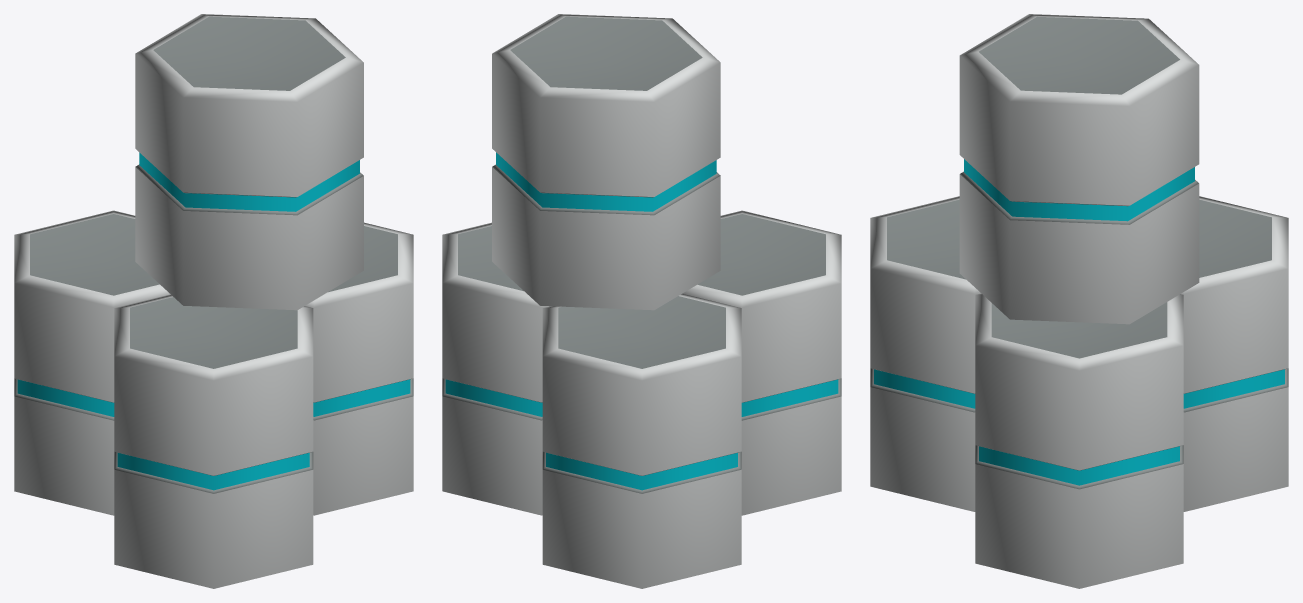
The model's file is BarrelsStacked.fbx.
The picture shows the model from 3 angles, left to right: view 1: azimuth 30°, elevation 25°; view 2: azimuth 150°, elevation 25°; view 3: azimuth 270°, elevation 25°; orthographic projection. The views are drawn at different scales.
Parts seen in each view (by area): view 1: pCylinder13, pCylinder8, pCylinder11, pCylinder12; view 2: pCylinder13, pCylinder11, pCylinder8, pCylinder12; view 3: pCylinder13, pCylinder12, pCylinder8, pCylinder11.
Part boxes in pixels (x1=…): pCylinder13: x1=135, y1=14, x2=363, y2=310; pCylinder8: x1=114, y1=294, x2=313, y2=588; pCylinder11: x1=14, y1=210, x2=170, y2=515; pCylinder12: x1=305, y1=222, x2=413, y2=515; pCylinder13: x1=492, y1=14, x2=720, y2=310; pCylinder11: x1=542, y1=293, x2=741, y2=588; pCylinder8: x1=683, y1=210, x2=841, y2=515; pCylinder12: x1=442, y1=222, x2=548, y2=515; pCylinder13: x1=959, y1=14, x2=1199, y2=324; pCylinder12: x1=975, y1=293, x2=1183, y2=588; pCylinder8: x1=870, y1=196, x2=980, y2=511; pCylinder11: x1=1181, y1=196, x2=1288, y2=511.
Size of the model in its own units: 0.8002 by 0.9484 by 0.7917.
